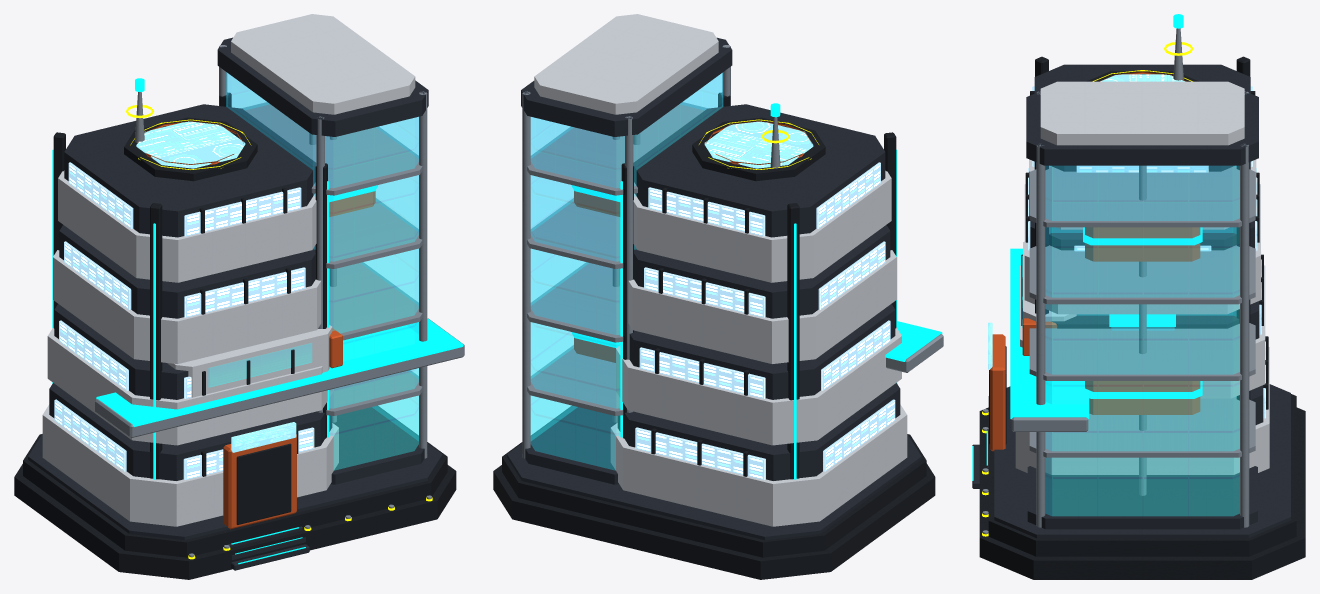
The model's file is bldg_02_r1_02.glb.
The picture shows the model from 3 angles, left to right: view 1: azimuth 30°, elevation 25°; view 2: azimuth 150°, elevation 25°; view 3: azimuth 270°, elevation 25°; orthographic projection. The views are drawn at different scales.
Visible parts, largest first — view 1: Bldg02_C02_aero_white, Bldg02_C02_carbon_slate, Bldg02_C02_glass_cyan, Bldg02_C02_gunmetal, Bldg02_C02_steel_machined, Bldg02_C02_window_lit, Bldg02_C02_led_cyan, Bldg02_C02_marquee, Bldg02_C02_accent_orange, Bldg02_C02_led_amber; view 2: Bldg02_C02_aero_white, Bldg02_C02_carbon_slate, Bldg02_C02_glass_cyan, Bldg02_C02_gunmetal, Bldg02_C02_steel_machined, Bldg02_C02_window_lit, Bldg02_C02_led_cyan, Bldg02_C02_marquee, Bldg02_C02_accent_orange; view 3: Bldg02_C02_glass_cyan, Bldg02_C02_steel_machined, Bldg02_C02_carbon_slate, Bldg02_C02_aero_white, Bldg02_C02_gunmetal, Bldg02_C02_accent_orange, Bldg02_C02_led_cyan, Bldg02_C02_window_lit, Bldg02_C02_marquee, Bldg02_C02_led_amber.
Boxes of the visible parts, <box> form: Bldg02_C02_aero_white: <box>42,14,415,526</box>; Bldg02_C02_carbon_slate: <box>28,37,442,570</box>; Bldg02_C02_glass_cyan: <box>208,72,418,470</box>; Bldg02_C02_gunmetal: <box>14,93,456,579</box>; Bldg02_C02_steel_machined: <box>95,45,464,557</box>; Bldg02_C02_window_lit: <box>54,162,314,479</box>; Bldg02_C02_led_cyan: <box>52,78,463,564</box>; Bldg02_C02_marquee: <box>136,121,296,452</box>; Bldg02_C02_accent_orange: <box>137,121,375,529</box>; Bldg02_C02_led_amber: <box>125,105,432,559</box>; Bldg02_C02_aero_white: <box>534,14,907,526</box>; Bldg02_C02_carbon_slate: <box>507,37,921,540</box>; Bldg02_C02_glass_cyan: <box>530,72,723,470</box>; Bldg02_C02_gunmetal: <box>493,93,935,579</box>; Bldg02_C02_steel_machined: <box>522,45,943,458</box>; Bldg02_C02_window_lit: <box>635,162,895,479</box>; Bldg02_C02_led_cyan: <box>571,103,942,479</box>; Bldg02_C02_marquee: <box>704,121,813,168</box>; Bldg02_C02_accent_orange: <box>574,121,811,362</box>; Bldg02_C02_glass_cyan: <box>1022,165,1239,515</box>; Bldg02_C02_steel_machined: <box>982,28,1255,534</box>; Bldg02_C02_carbon_slate: <box>972,64,1290,538</box>; Bldg02_C02_aero_white: <box>1015,81,1269,474</box>; Bldg02_C02_gunmetal: <box>979,56,1305,579</box>; Bldg02_C02_accent_orange: <box>990,71,1200,451</box>; Bldg02_C02_led_cyan: <box>972,14,1202,480</box>; Bldg02_C02_window_lit: <box>1028,86,1265,418</box>; Bldg02_C02_marquee: <box>988,74,1184,369</box>; Bldg02_C02_led_amber: <box>982,42,1193,536</box>.
Bounding box in the file's own units: 12.5 × 14.82 × 10.23.
10 materials, 10 textured.
